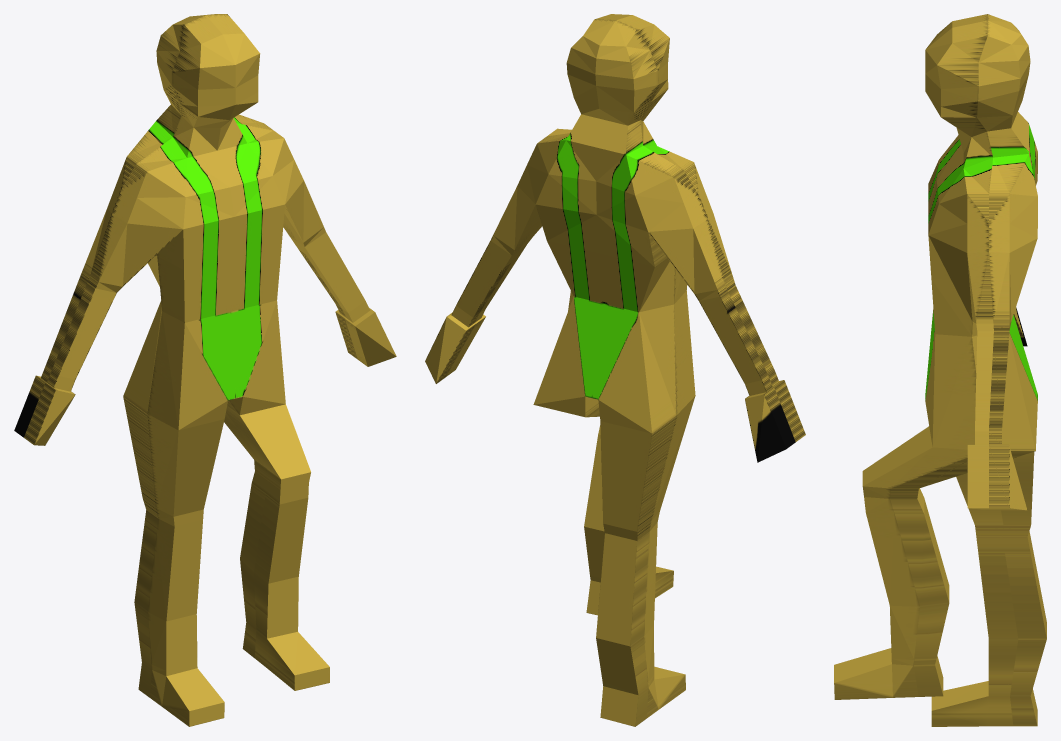
3 views of the same model, side by side, from view 1: azimuth 30°, elevation 25°; view 2: azimuth 150°, elevation 25°; view 3: azimuth 270°, elevation 25° (orthographic). The views are drawn at different scales.
Parts seen in each view (by area): view 1: Borat; view 2: Borat; view 3: Borat.
Part boxes in pixels (x1,y1,x2,y2): Borat: (14, 14, 396, 726); Borat: (425, 14, 805, 726); Borat: (834, 14, 1046, 726).
Size of the model in its own units: 1.79 by 3.21 by 0.8711.
